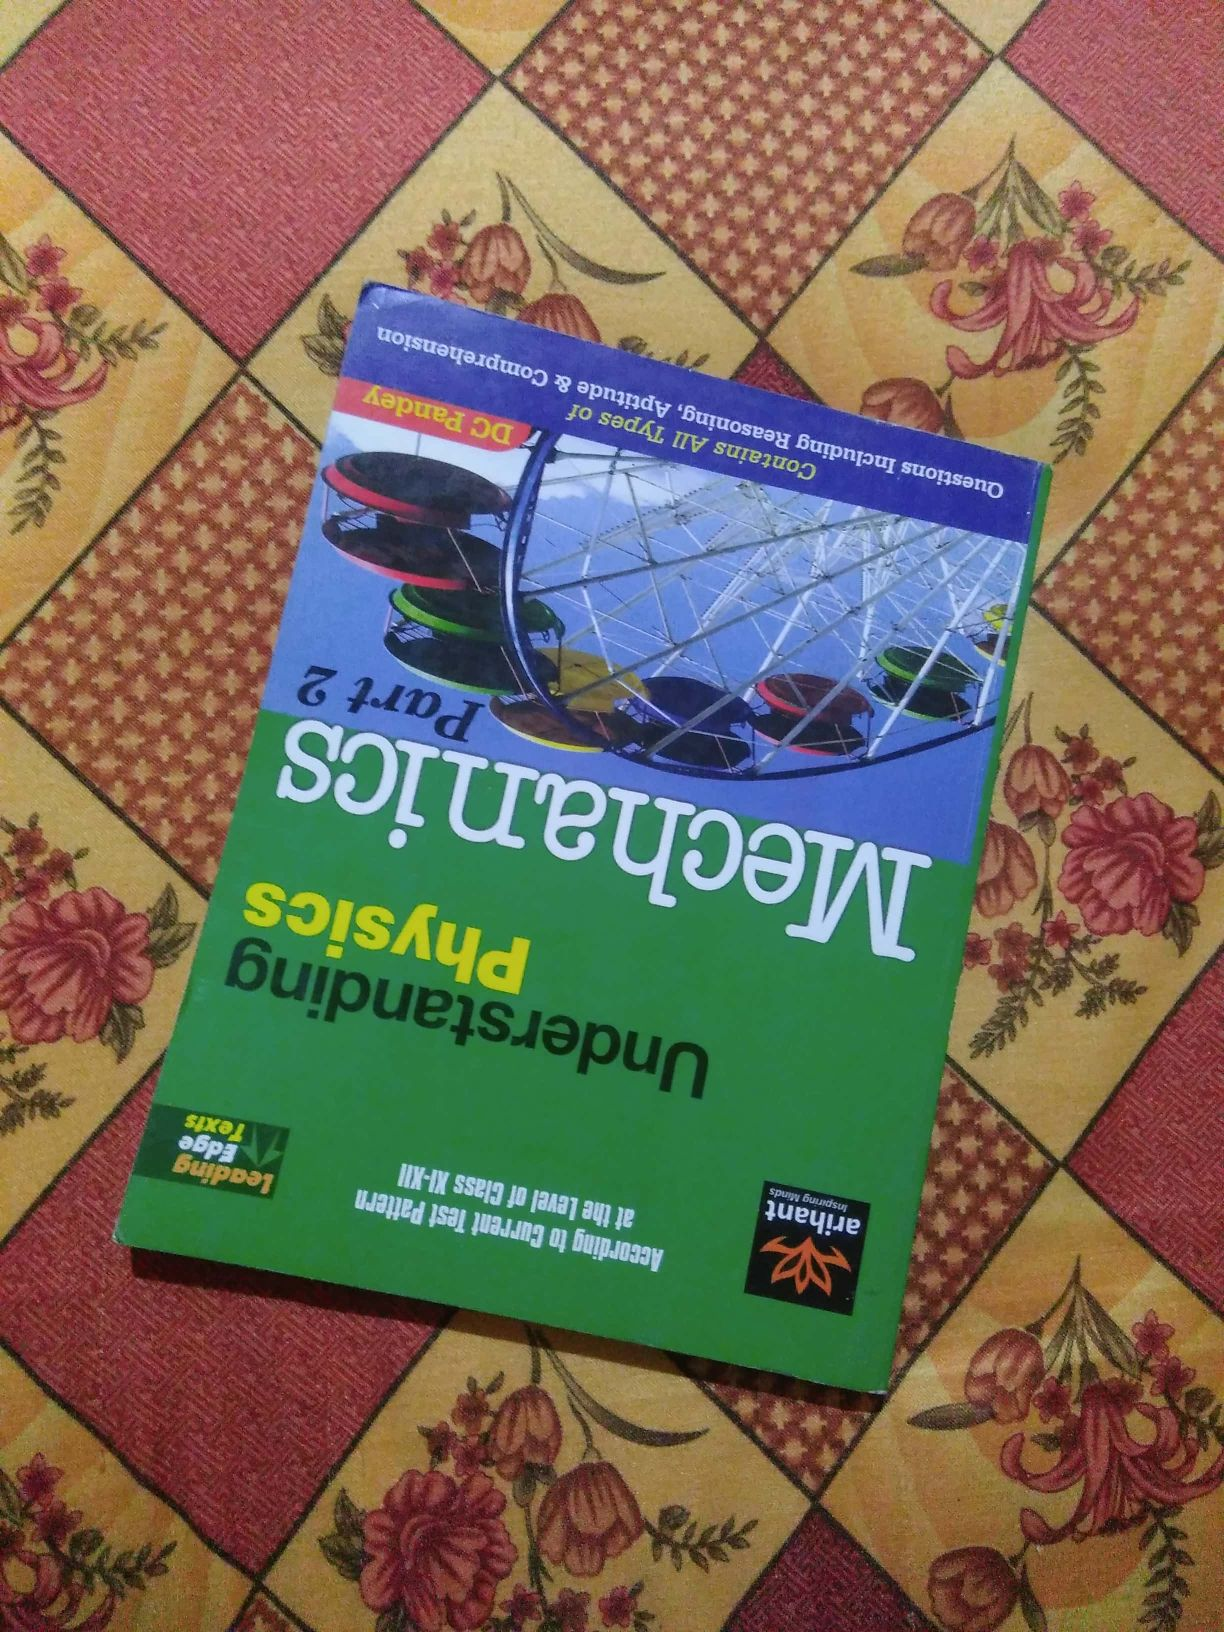mechanics: (158, 248, 1054, 1453)
